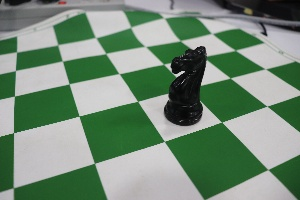black_horse: (157, 31, 210, 130)
